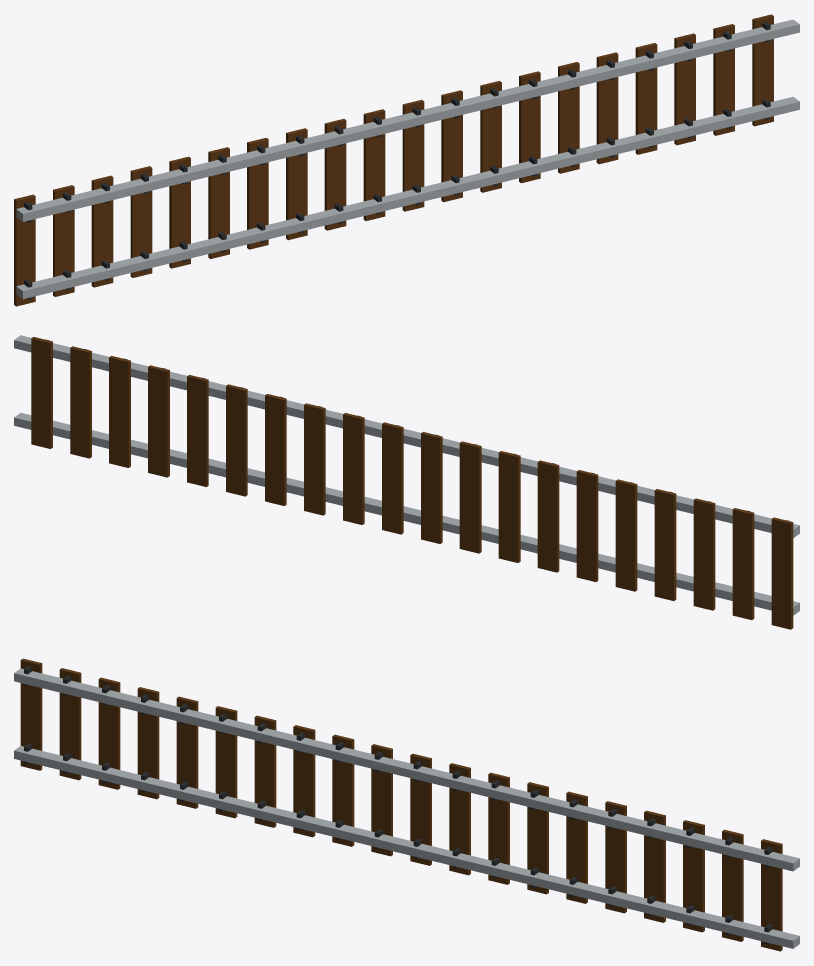
Rendered from tinker.obj.
3 renders of one model, top to bottom at view 1: azimuth 30°, elevation 25°; view 2: azimuth 150°, elevation 25°; view 3: azimuth 330°, elevation 25°, orthographic.
Visible parts, largest first — view 1: group_0_6306067, group_0_10988977, group_0_2829873; view 2: group_0_6306067, group_0_10988977; view 3: group_0_6306067, group_0_10988977, group_0_2829873.
Boxes of the visible parts, x1,y1,x2,y2 form: group_0_6306067: [14, 14, 773, 306]; group_0_10988977: [16, 19, 799, 299]; group_0_2829873: [24, 22, 770, 299]; group_0_6306067: [31, 337, 793, 629]; group_0_10988977: [14, 335, 799, 615]; group_0_6306067: [20, 658, 782, 951]; group_0_10988977: [14, 668, 799, 948]; group_0_2829873: [24, 666, 772, 944].
Size of the model in its own units: 200 by 26 by 4.
